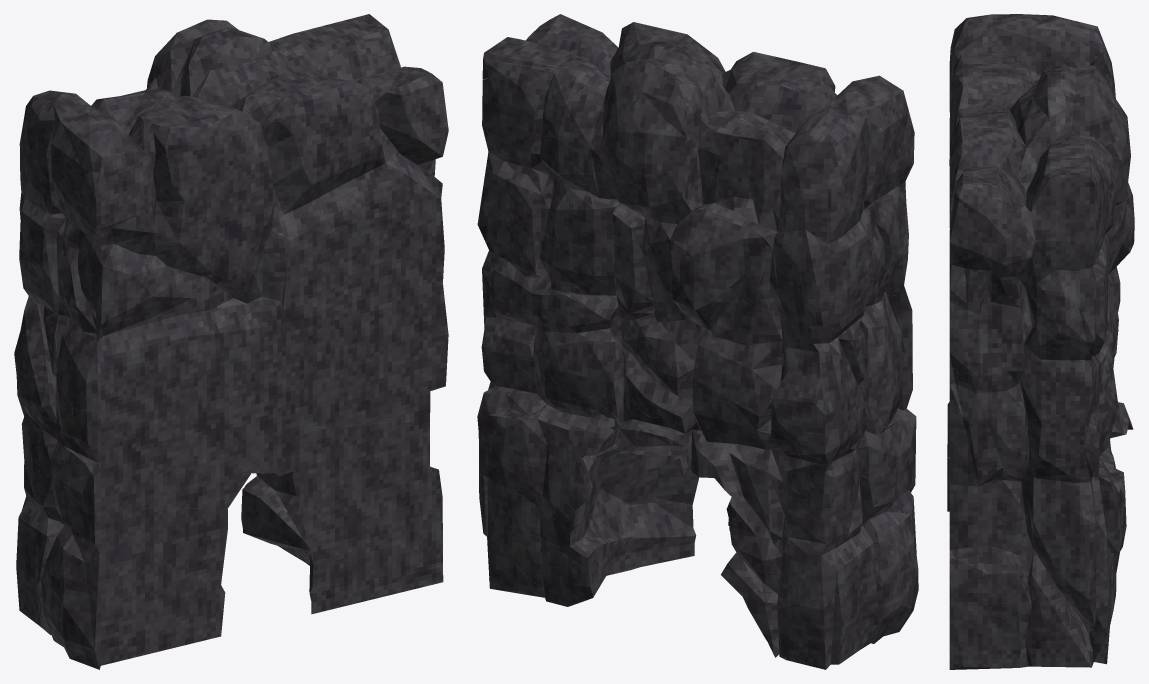
File: stone-wall1-hole.glb
3 views of the same model, side by side, from view 1: azimuth 30°, elevation 25°; view 2: azimuth 150°, elevation 25°; view 3: azimuth 270°, elevation 25° (orthographic). The views are drawn at different scales.
Parts seen in each view (by area): view 1: Cube.002_cell.002; view 2: Cube.002_cell.002; view 3: Cube.002_cell.002.
Part boxes in pixels (left/top/right/bottom): Cube.002_cell.002: left=14, top=14, right=448, bottom=669; Cube.002_cell.002: left=477, top=14, right=918, bottom=669; Cube.002_cell.002: left=947, top=14, right=1134, bottom=669.
Bounding box in the file's own units: 4.68 × 6.46 × 2.07.
1 material, 1 textured.
